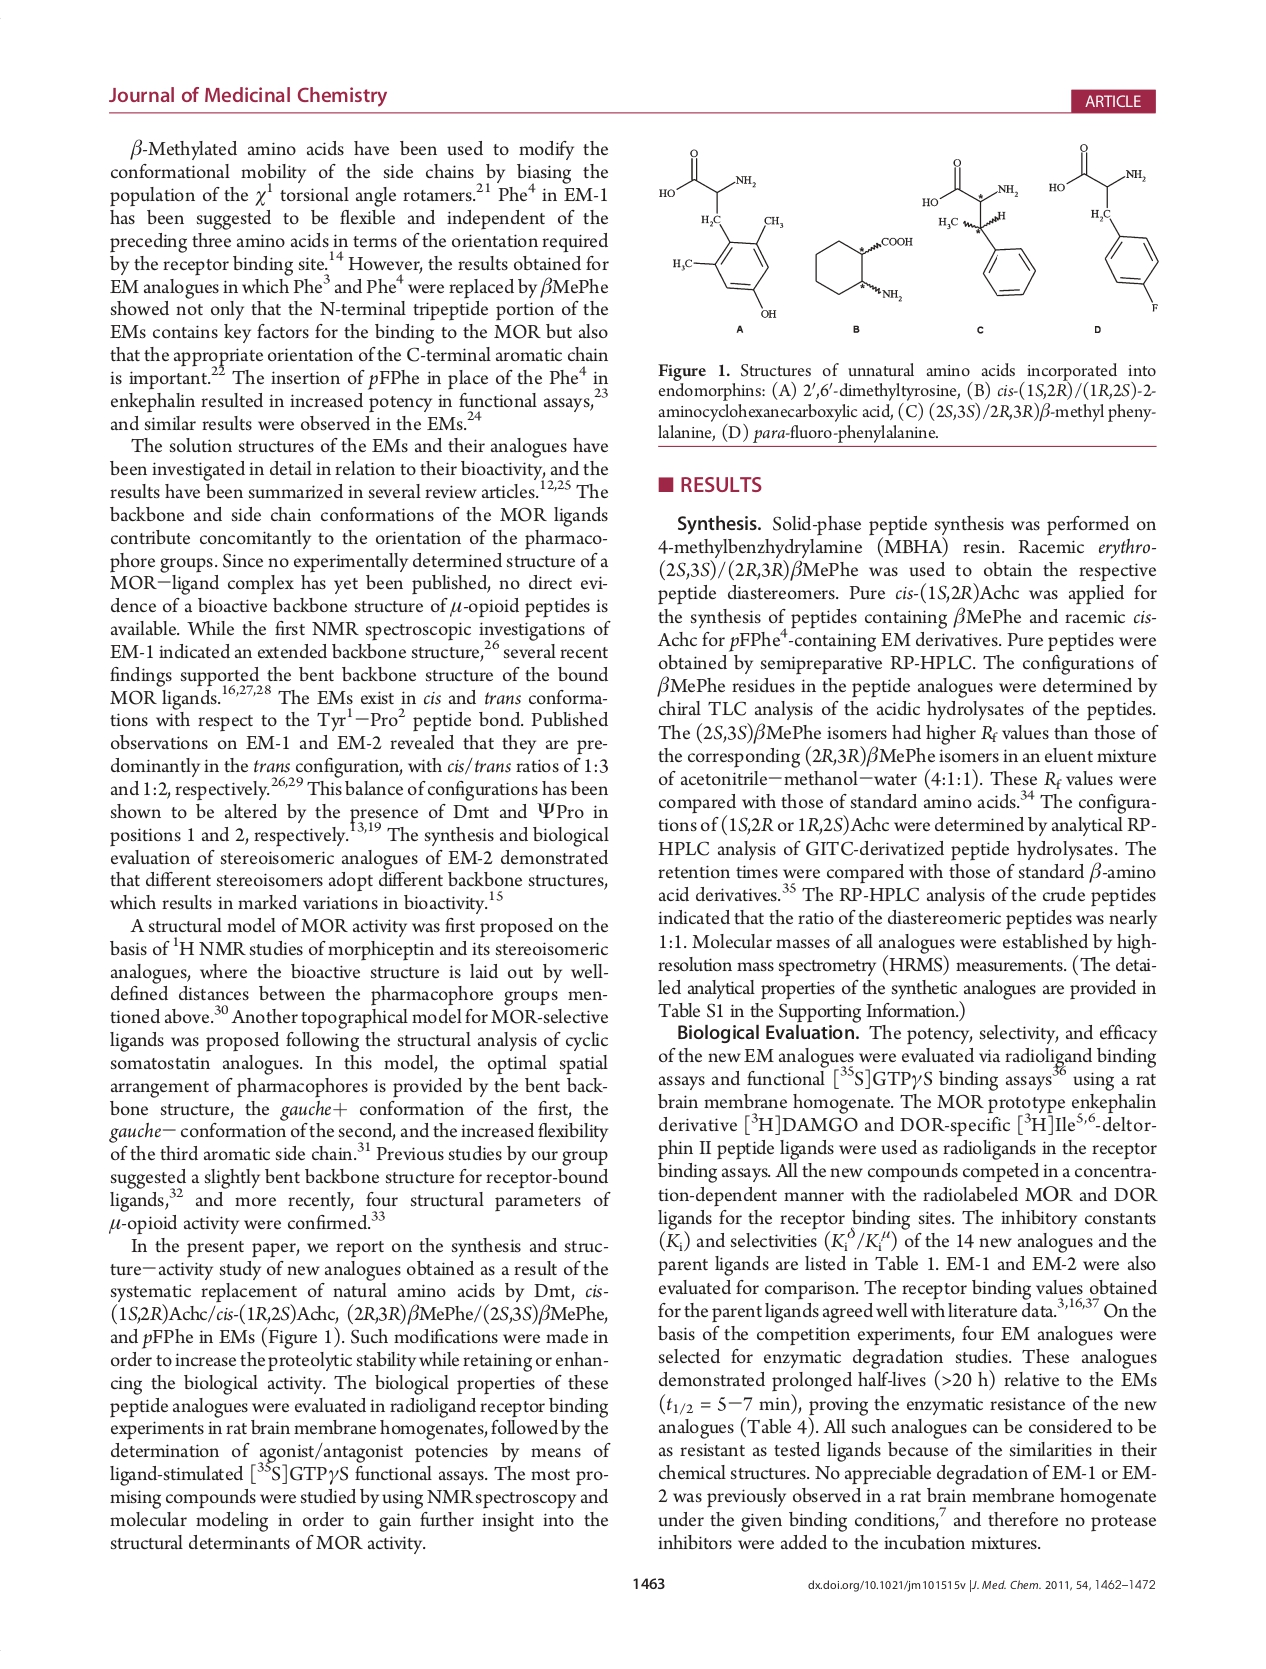exist_molecular: (654, 144, 789, 321), (1045, 141, 1164, 315), (920, 156, 1039, 301), (810, 231, 914, 305)
